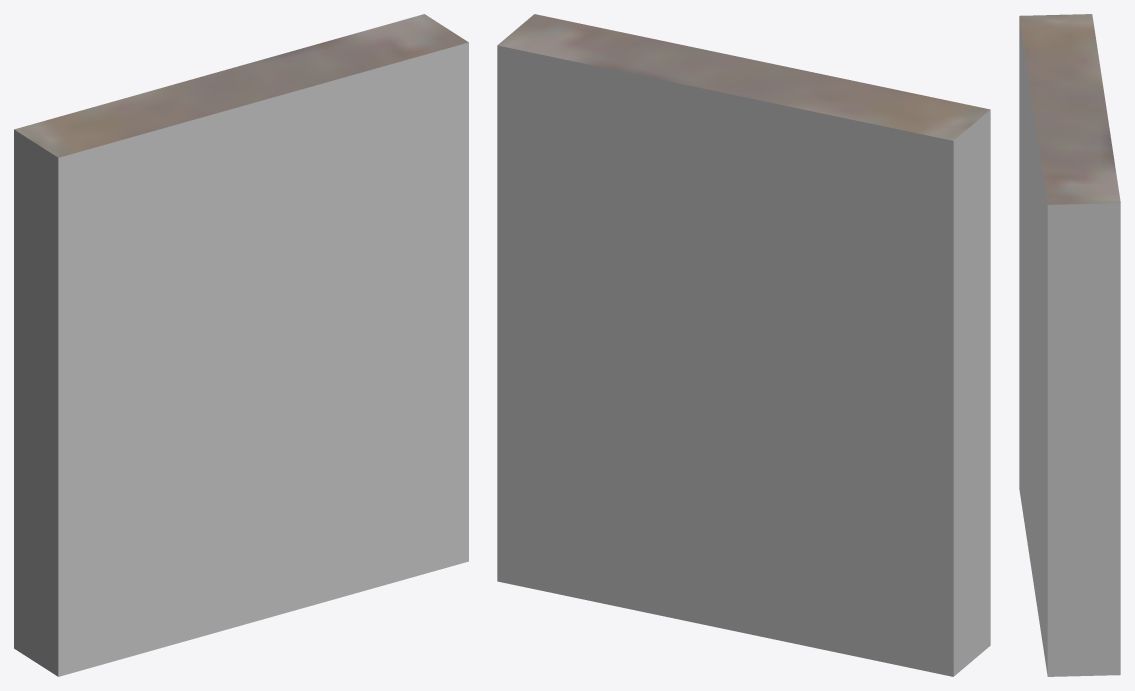
The model's file is DEBW_0010007THXa.gltf.
The picture shows the model from 3 angles, left to right: view 1: azimuth 30°, elevation 25°; view 2: azimuth 150°, elevation 25°; view 3: azimuth 270°, elevation 25°; orthographic projection. The views are drawn at different scales.
Parts seen in each view (by area): view 1: Z_UP; view 2: Z_UP; view 3: Z_UP.
Part boxes in pixels (left/top/right/bottom): Z_UP: left=14, top=14, right=468, bottom=676; Z_UP: left=497, top=14, right=990, bottom=676; Z_UP: left=1019, top=14, right=1120, bottom=676.
Bounding box in the file's own units: 6.18 × 7.12 × 1.39.
2 materials, 1 textured.
